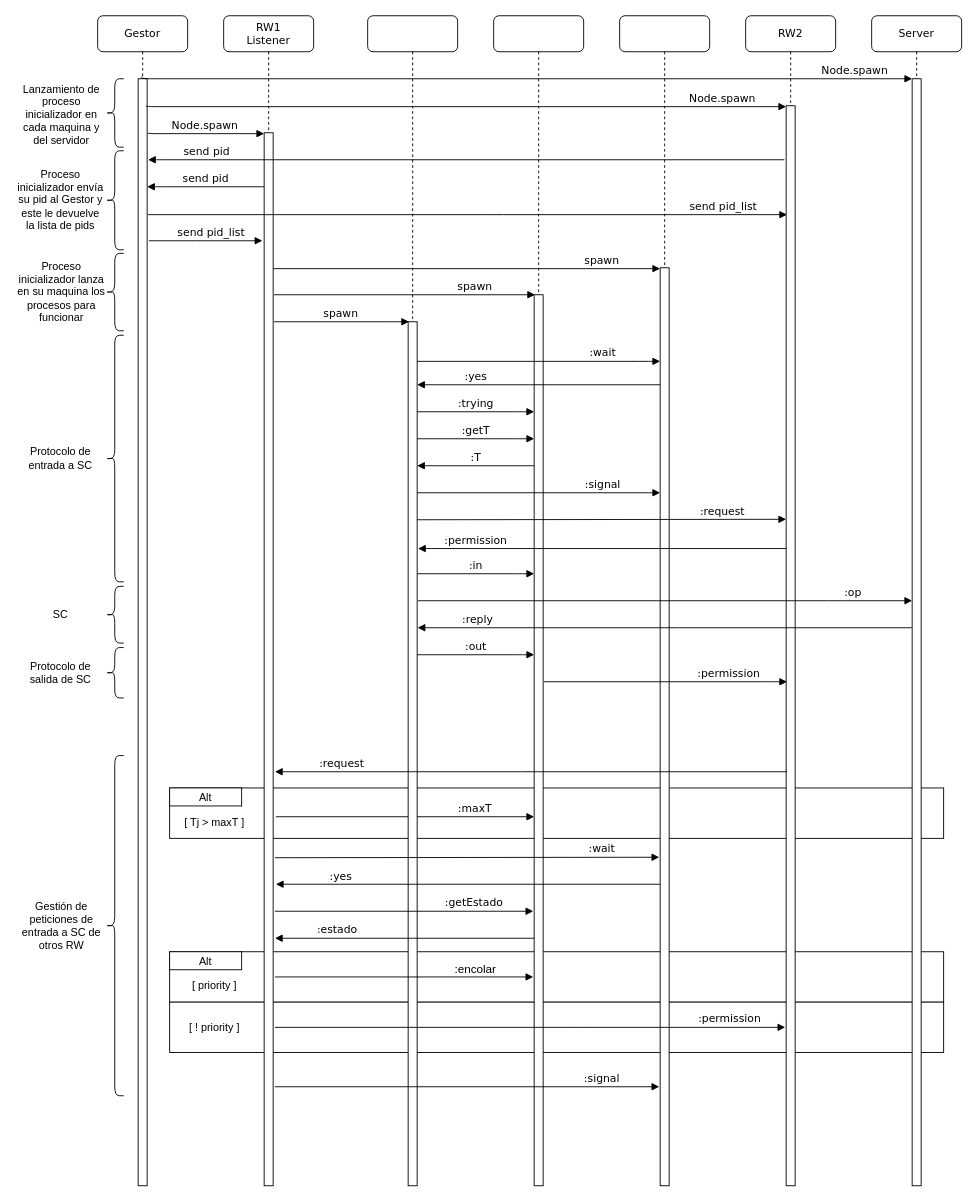
Some shapes in this 977 by 1202 pixel diagram are drawn without their labels. The shapes that lost their labels are listed below. From the top down, each one's box as (x1, y1, x2, y2) in pixels, then its label:
(493, 15, 584, 745): RW1 Ecola
(367, 15, 458, 1186): RW1 Main
(619, 15, 710, 1186): RW1 Semaforo
